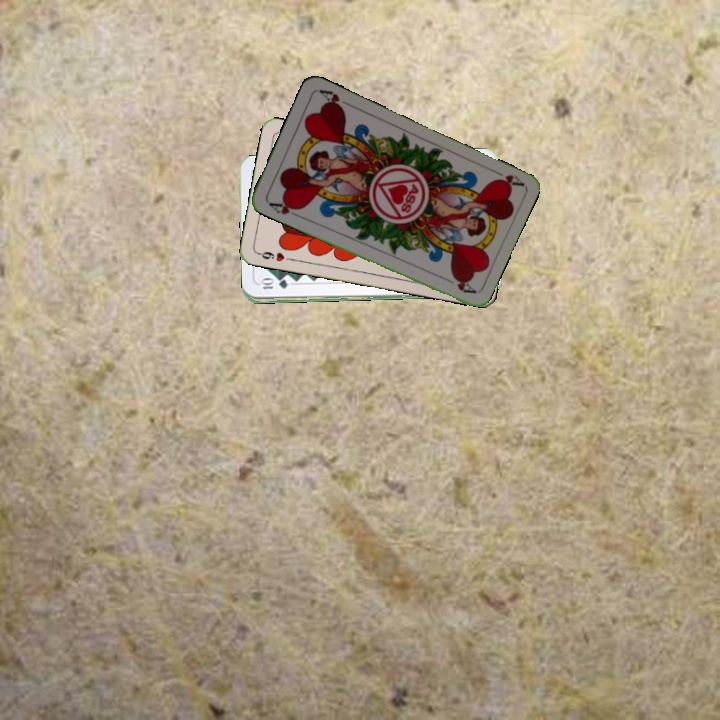G10: (257, 278, 291, 291)
H9: (254, 247, 294, 264)
HA: (487, 165, 525, 190), (265, 197, 303, 220)
